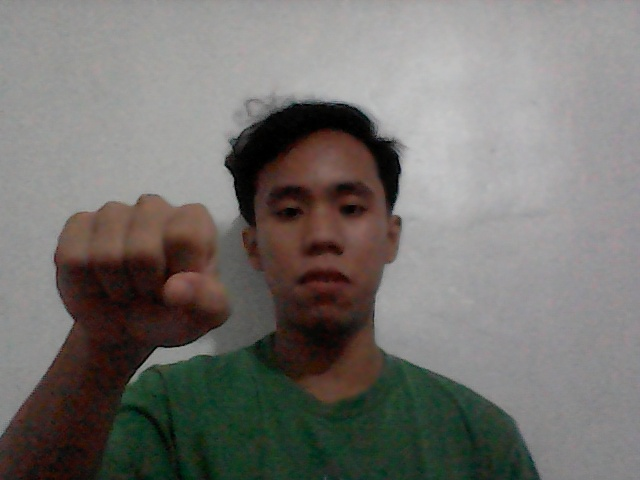Yes: (24, 176, 260, 396)
